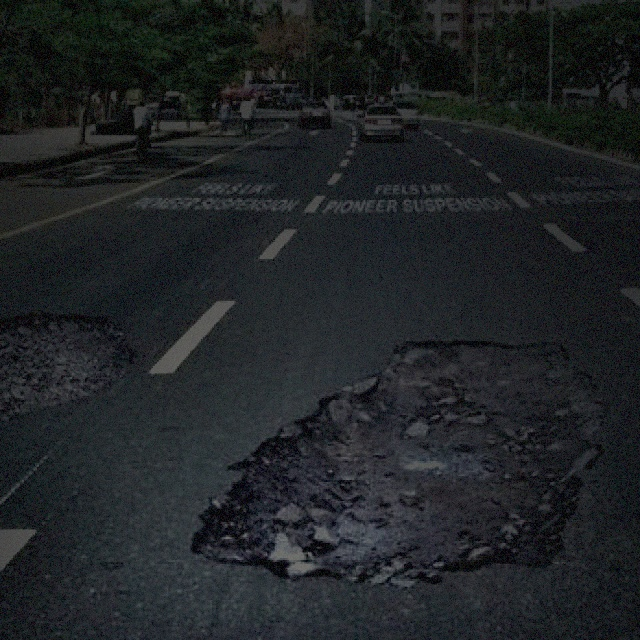pothole: (184, 322, 596, 588), (7, 290, 131, 417)
